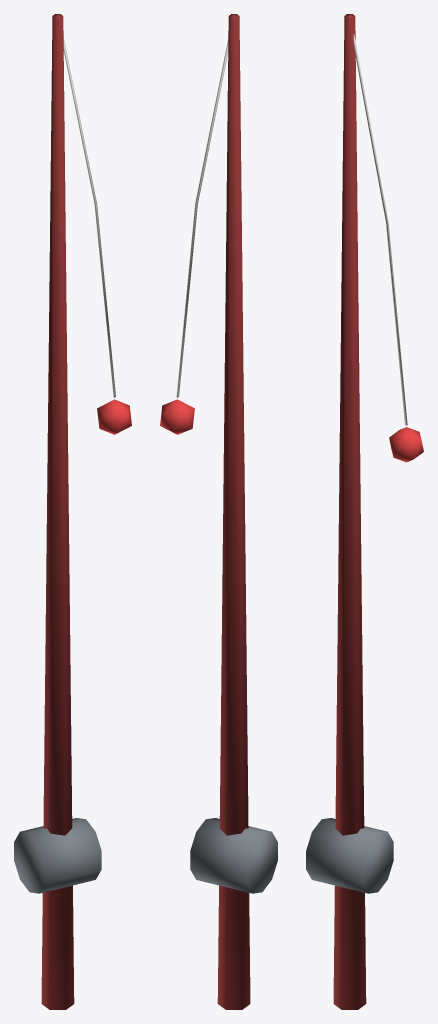
File: fleshcatcher.glb
The picture shows the model from 3 angles, left to right: view 1: azimuth 30°, elevation 25°; view 2: azimuth 150°, elevation 25°; view 3: azimuth 330°, elevation 25°; orthographic projection.
Parts seen in each view (by area): view 1: fleshcatcher_v0; view 2: fleshcatcher_v0; view 3: fleshcatcher_v0.
Boxes of the visible parts, left/top/right/bottom form: fleshcatcher_v0: left=14, top=14, right=131, bottom=1009; fleshcatcher_v0: left=160, top=14, right=277, bottom=1009; fleshcatcher_v0: left=306, top=14, right=423, bottom=1009.
Bounding box in the file's own units: 0.1061 × 1 × 0.0571.
